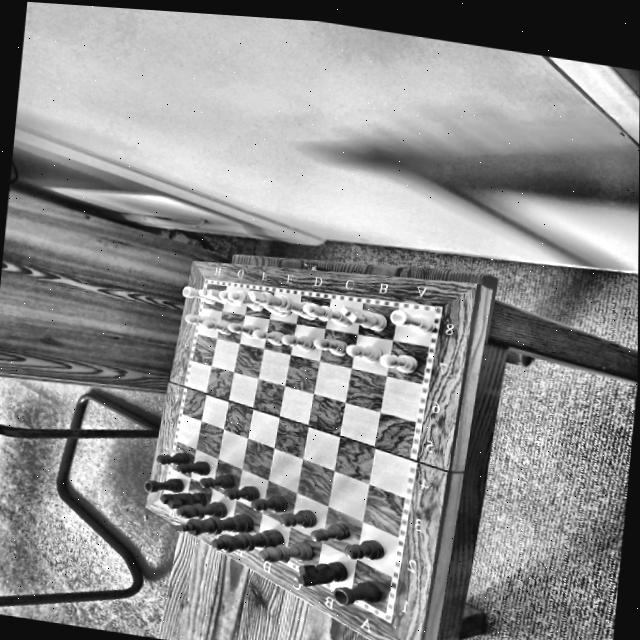black-bishop: (253, 533, 313, 573), (172, 493, 230, 527)
black-king: (170, 501, 255, 548)
black-knight: (292, 553, 350, 594), (158, 483, 210, 518)
black-pawn: (340, 532, 391, 568), (305, 517, 355, 550), (246, 488, 293, 518), (219, 479, 264, 506), (278, 506, 319, 533), (195, 468, 237, 494), (174, 454, 216, 479), (153, 445, 192, 471)
black-queen: (208, 517, 289, 565)
black-rook: (331, 574, 383, 611), (140, 470, 187, 501)
white-bishop: (300, 298, 354, 327), (218, 287, 230, 302)
white-king: (247, 286, 322, 322)
white-knight: (339, 302, 390, 334), (197, 283, 230, 306)
white-pawn: (377, 347, 424, 378), (312, 330, 352, 360), (343, 338, 383, 366), (279, 327, 317, 355), (251, 323, 285, 347), (225, 318, 262, 340), (200, 314, 234, 337), (183, 308, 216, 329)
white-queen: (226, 287, 290, 323)
white-rook: (386, 304, 438, 336), (180, 281, 217, 308)
